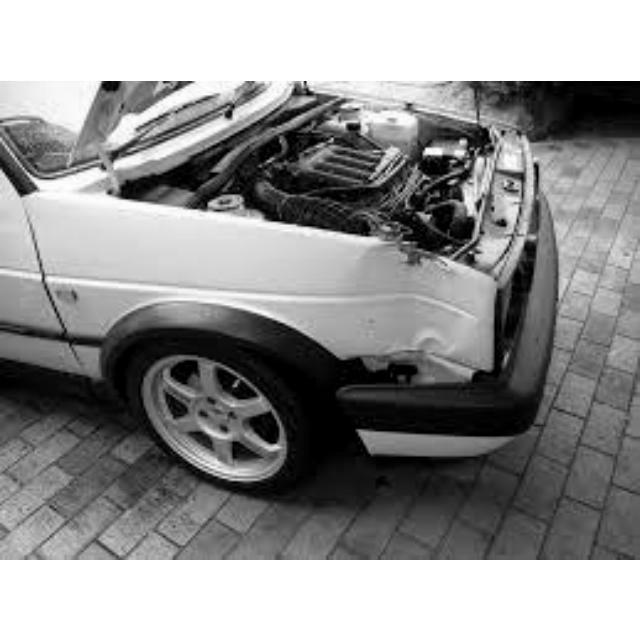fender-dent: (198, 239, 509, 402)
